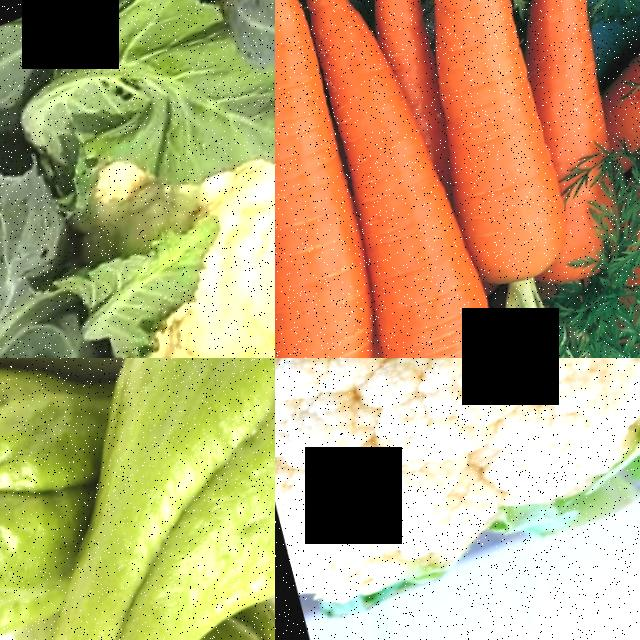carrot: (291, 0, 502, 358), (383, 0, 556, 313), (275, 0, 400, 358)
cauliflower: (275, 358, 640, 640), (8, 0, 275, 358)
chayote: (44, 358, 275, 640), (0, 358, 122, 640)
